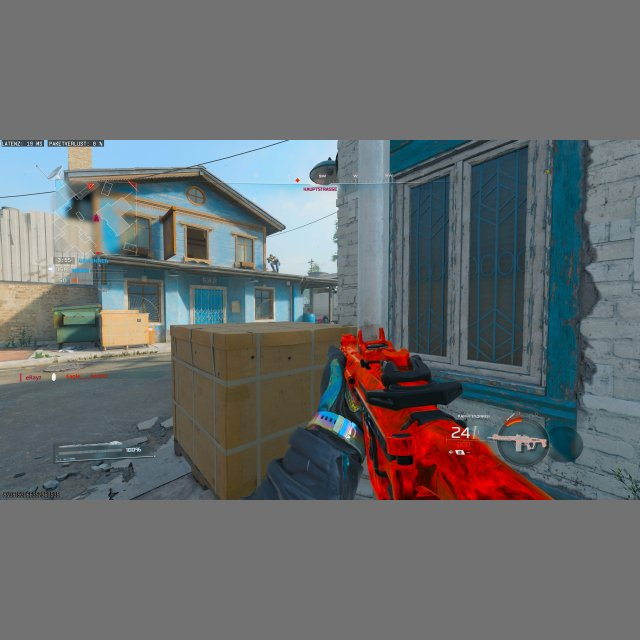player: (267, 254, 280, 272), (317, 315, 328, 323)
